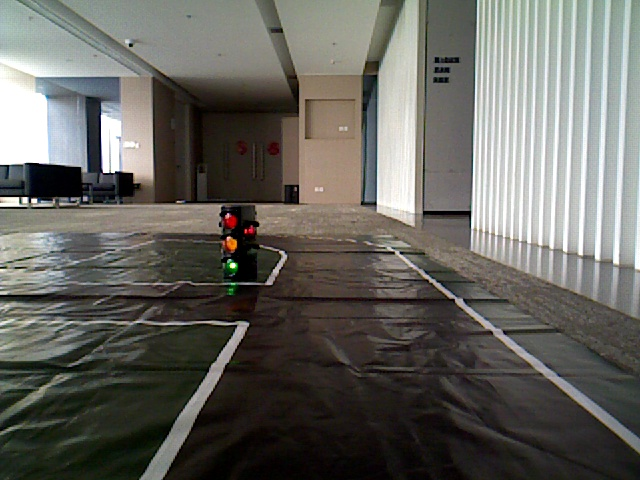green: (223, 211, 241, 271)
